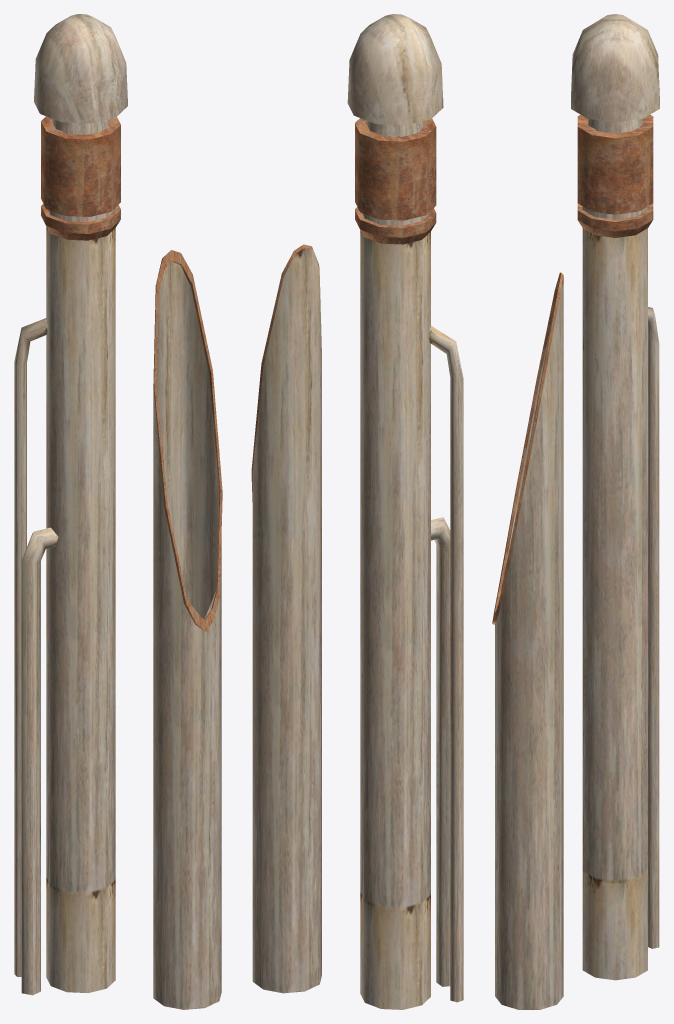
The model's file is thm_tato_debris_s02_l0.fbx.
The picture shows the model from 3 angles, left to right: view 1: azimuth 30°, elevation 25°; view 2: azimuth 210°, elevation 25°; view 3: azimuth 270°, elevation 25°; orthographic projection. The views are drawn at different scales.
Parts seen in each view (by area): view 1: mesh_node; view 2: mesh_node; view 3: mesh_node.
Part boxes in pixels (x1,y1,x2,y2): mesh_node: [14, 14, 222, 1009]; mesh_node: [251, 14, 463, 1009]; mesh_node: [492, 14, 659, 1009].
Bounding box in the file's own units: 0.6973 × 4.21 × 0.6764.
Materials: 2 (2 with a texture image).
